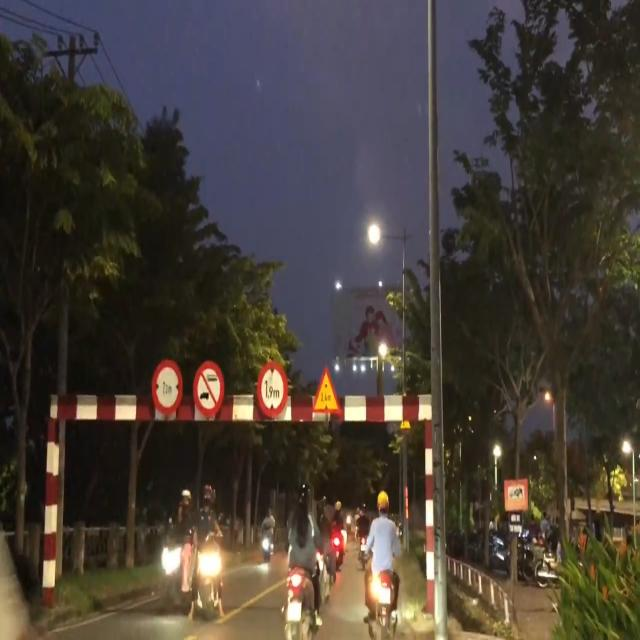Bien bao cam xe oto khach va xe oto tai: (191, 354, 226, 414)
Bien bao chieu cao tinh khong thuc te: (310, 360, 343, 421)
Bien bao han che chieu cao: (253, 356, 290, 421)
